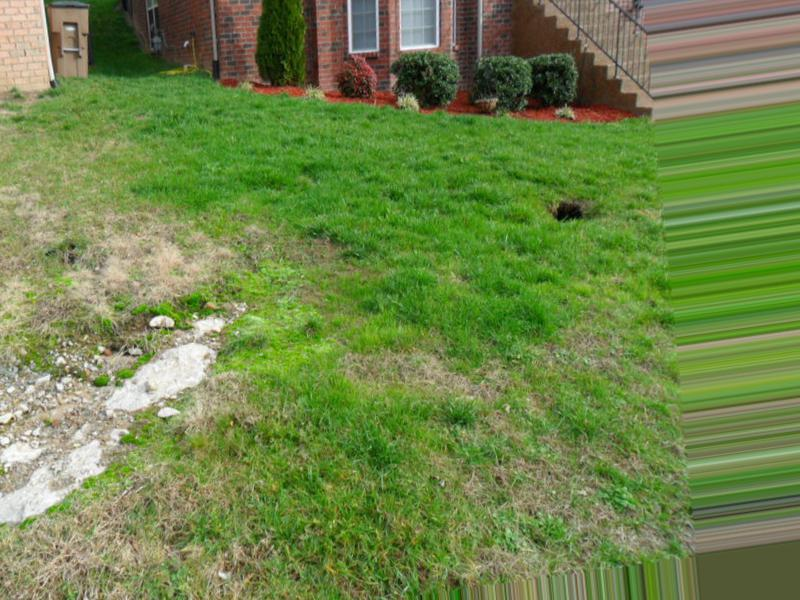patch: (86, 196, 201, 278), (87, 316, 190, 384), (35, 393, 128, 456), (33, 476, 110, 539), (128, 488, 208, 537), (220, 218, 283, 259), (544, 442, 587, 500), (565, 521, 640, 552), (498, 540, 562, 569), (551, 195, 601, 231), (469, 472, 513, 512), (445, 361, 490, 393), (632, 484, 677, 510), (384, 347, 426, 372), (503, 346, 541, 372), (633, 200, 667, 229), (561, 335, 596, 363), (586, 314, 614, 324)
